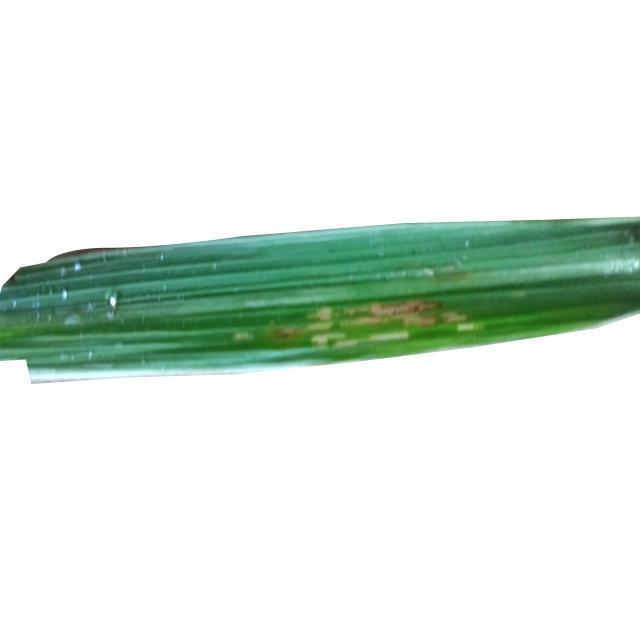Bacterial_Leaf_Blight: (373, 277, 471, 342), (268, 304, 304, 360)
